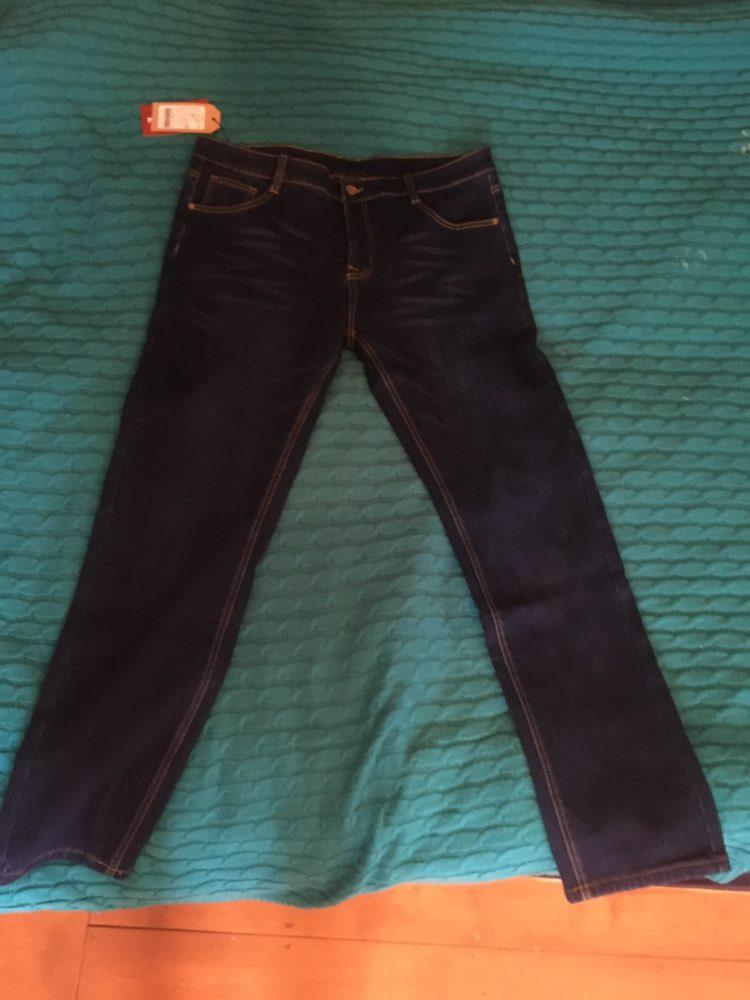jeans: (46, 130, 699, 861)
